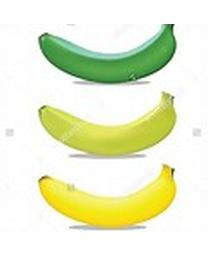banana: (38, 91, 178, 157), (38, 164, 177, 226), (37, 24, 175, 83)
